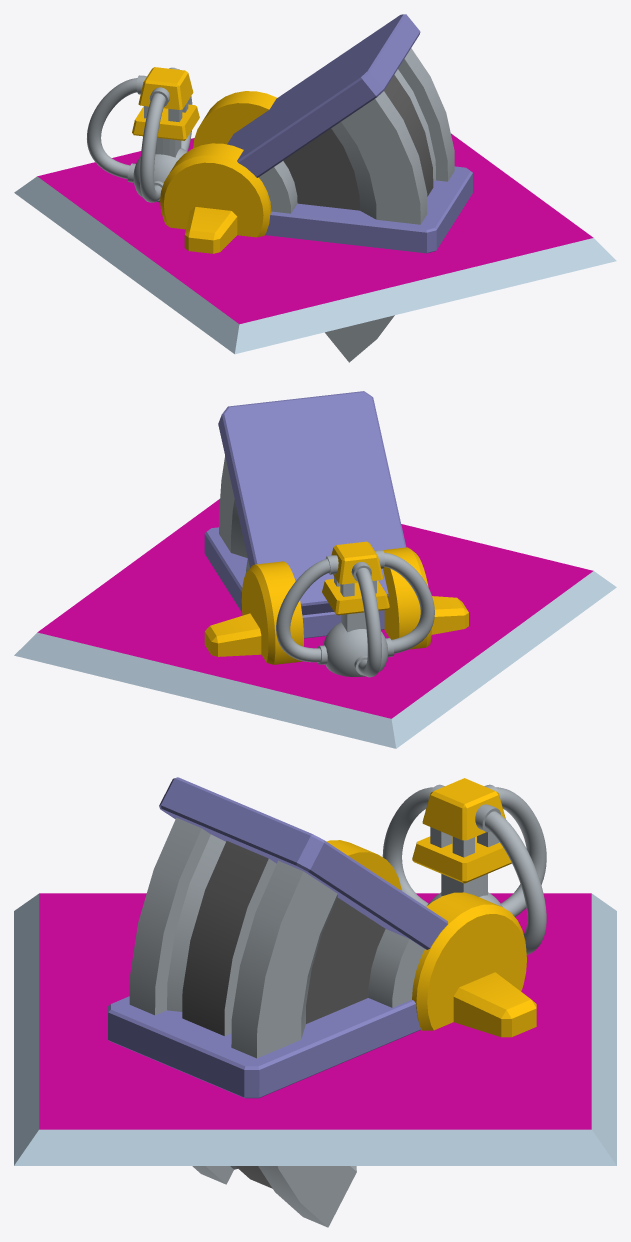
The model's file is 68_Haarvester_FOMO4.fbx.
The picture shows the model from 3 angles, top to bottom: view 1: azimuth 30°, elevation 25°; view 2: azimuth 150°, elevation 25°; view 3: azimuth 270°, elevation 25°; orthographic projection. The views are drawn at different scales.
Visible parts, largest first — view 1: foundation4, polySurface52, pCube118, pCube119, pCylinder90, pCube122, pCylinder89, pCylinder103, pCube145, pCylinder104, pSphere28; view 2: foundation4, pCube118, pCylinder89, pCube122, pCube119, pCylinder90, pSphere28, pCylinder102, pCylinder104, pCube146, pCylinder103, polySurface52 (+1 smaller); view 3: foundation4, polySurface52, pCube119, pCube118, pCylinder89, pCube122, pCube146, pCylinder102, pCylinder103, pCylinder104, pCylinder90, polySurface63 (+1 smaller).
Part boxes in pixels (box(x1,y1,x2,y2)): foundation4: box(14, 133, 616, 354); polySurface52: box(259, 48, 454, 362); pCube118: box(227, 14, 420, 177); pCube119: box(265, 166, 472, 253); pCylinder90: box(160, 143, 271, 237); pCube122: box(132, 67, 199, 140); pCylinder89: box(193, 91, 276, 148); pCylinder103: box(87, 75, 146, 182); pCube145: box(184, 207, 237, 253); pCylinder104: box(139, 87, 169, 202); pSphere28: box(133, 138, 186, 202); foundation4: box(14, 499, 616, 748); pCube118: box(218, 391, 406, 615); pCylinder89: box(241, 561, 303, 664); pCube122: box(322, 541, 389, 615); pCube119: box(204, 527, 384, 638); pCylinder90: box(383, 547, 431, 649); pSphere28: box(323, 612, 388, 676); pCylinder102: box(276, 555, 338, 664); pCylinder104: box(375, 550, 434, 657); pCube146: box(204, 613, 261, 656); pCylinder103: box(351, 562, 381, 677); polySurface52: box(219, 456, 249, 573); foundation4: box(14, 893, 616, 1165); polySurface52: box(129, 817, 424, 1227); pCube119: box(108, 996, 420, 1098); pCube118: box(159, 777, 447, 949); pCylinder89: box(412, 892, 526, 1030); pCube122: box(412, 778, 511, 883); pCube146: box(453, 972, 536, 1037); pCylinder102: box(475, 804, 546, 955); pCylinder103: box(484, 784, 546, 916); pCylinder104: box(382, 784, 444, 906); pCylinder90: box(326, 840, 401, 890); polySurface63: box(430, 827, 499, 857).
Size of the model in its own units: 2 by 1.48 by 2.
